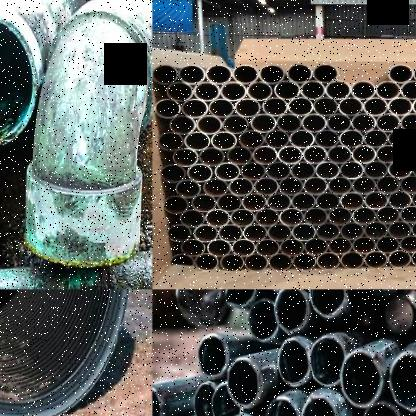pipe: (0, 289, 131, 416), (0, 11, 37, 148), (340, 352, 382, 408), (310, 336, 345, 387), (228, 358, 262, 408), (278, 337, 310, 388), (389, 353, 416, 412), (275, 289, 309, 332), (198, 334, 228, 379), (248, 300, 278, 343), (309, 290, 345, 320), (302, 394, 338, 416), (193, 381, 215, 416), (266, 397, 300, 416), (223, 289, 256, 307), (234, 97, 262, 118), (178, 64, 206, 85), (205, 64, 233, 85), (166, 81, 194, 102), (220, 81, 247, 102), (181, 98, 208, 119), (194, 81, 221, 102), (287, 96, 314, 117), (258, 64, 286, 84), (222, 114, 250, 134), (246, 81, 274, 101), (363, 96, 389, 117), (313, 96, 339, 117), (286, 63, 313, 83), (250, 113, 277, 133), (184, 131, 211, 151), (274, 80, 301, 100), (361, 403, 402, 416), (226, 146, 254, 165), (210, 131, 238, 150), (238, 130, 266, 149), (190, 194, 218, 213), (338, 96, 363, 117), (302, 145, 328, 165), (301, 113, 327, 133), (290, 161, 316, 181), (276, 113, 302, 133), (289, 129, 315, 149), (264, 129, 290, 149), (170, 115, 196, 135), (228, 177, 254, 197), (262, 97, 288, 117), (216, 193, 242, 213), (314, 129, 340, 149), (199, 147, 225, 167), (266, 192, 292, 212), (300, 80, 326, 100), (196, 115, 223, 134), (214, 162, 241, 181), (179, 209, 206, 228), (163, 195, 190, 214), (202, 178, 229, 197), (389, 63, 413, 84), (351, 80, 376, 100), (327, 145, 352, 165), (241, 161, 266, 181), (278, 145, 303, 165), (266, 161, 291, 181), (326, 80, 351, 100), (303, 176, 328, 196), (188, 163, 213, 183), (327, 113, 352, 133), (339, 129, 364, 149), (209, 98, 234, 118), (233, 64, 258, 84), (153, 64, 178, 84), (339, 160, 364, 180), (313, 63, 338, 83), (252, 146, 278, 165), (351, 145, 377, 164), (315, 161, 341, 180), (205, 209, 231, 228), (253, 177, 279, 196), (158, 132, 184, 151), (254, 208, 280, 227), (278, 177, 304, 196), (173, 148, 199, 167), (155, 99, 181, 118), (291, 192, 317, 211), (255, 238, 281, 257), (364, 160, 388, 180), (388, 128, 412, 148), (376, 175, 400, 195), (340, 191, 364, 211), (242, 193, 267, 212), (351, 113, 376, 132), (328, 176, 353, 195), (161, 164, 186, 183), (176, 179, 201, 198), (352, 176, 377, 195), (243, 223, 268, 242), (267, 223, 292, 242), (304, 237, 329, 256), (207, 238, 232, 257), (364, 191, 389, 210), (388, 97, 413, 116), (352, 206, 377, 225), (231, 238, 256, 257), (279, 238, 305, 256), (193, 224, 219, 242), (376, 145, 400, 164), (364, 129, 388, 148), (376, 81, 400, 100), (388, 160, 412, 179), (376, 113, 400, 132), (181, 238, 205, 257), (293, 252, 317, 271), (352, 236, 376, 255), (280, 208, 304, 227), (316, 192, 340, 211), (340, 221, 364, 240), (388, 220, 412, 239), (230, 209, 255, 227), (167, 224, 192, 242), (268, 253, 293, 271), (218, 224, 243, 242), (244, 253, 269, 271), (328, 207, 353, 225), (364, 221, 389, 239), (328, 237, 353, 255), (292, 223, 317, 241), (219, 254, 245, 271), (195, 253, 219, 271), (340, 251, 364, 269), (376, 206, 400, 224), (304, 208, 328, 226), (316, 222, 340, 240), (388, 191, 412, 209), (375, 236, 400, 253), (316, 252, 341, 269), (364, 251, 388, 268), (388, 250, 412, 267), (171, 254, 195, 268), (399, 174, 416, 193), (399, 204, 416, 223), (400, 79, 416, 99), (399, 144, 416, 162), (399, 234, 416, 252), (400, 112, 416, 131), (152, 387, 160, 416), (411, 189, 416, 208), (411, 219, 416, 238), (411, 249, 416, 266), (412, 96, 416, 115), (412, 128, 416, 147), (412, 160, 416, 178), (413, 63, 416, 83)
